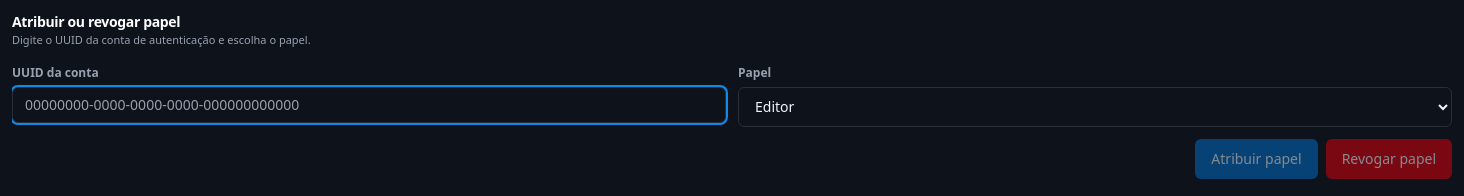
it: UsuariosForm › habilita botoes apos digitar um UUID
The image size is (1464, 196).
In the field labelled "UUID da conta": (369, 104) x1=12 y1=86 x2=726 y2=122, type "00000000-0000-4000-8000-000000000002"
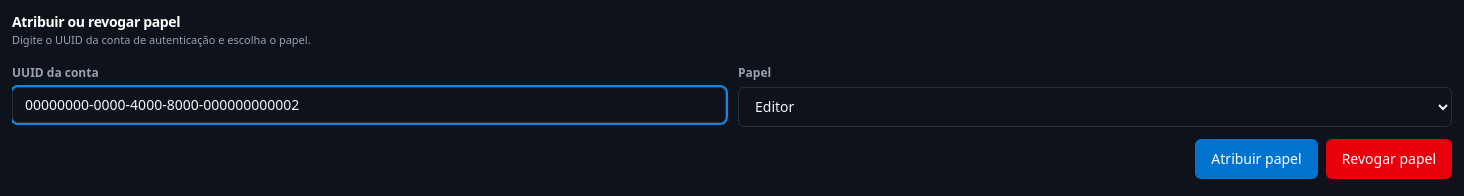
Expected: the button "Atribuir papel" is enabled, x1=1195 y1=138 x2=1318 y2=178
Expected: the button "Revogar papel" is enabled, x1=1326 y1=138 x2=1452 y2=178
